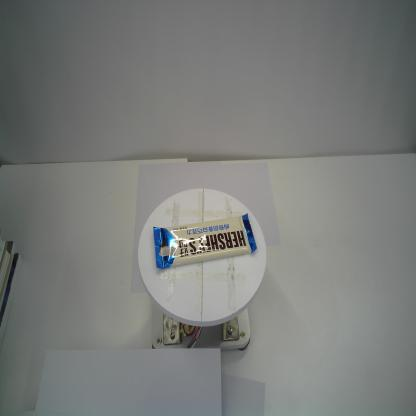Chocolate: (152, 212, 257, 270)
